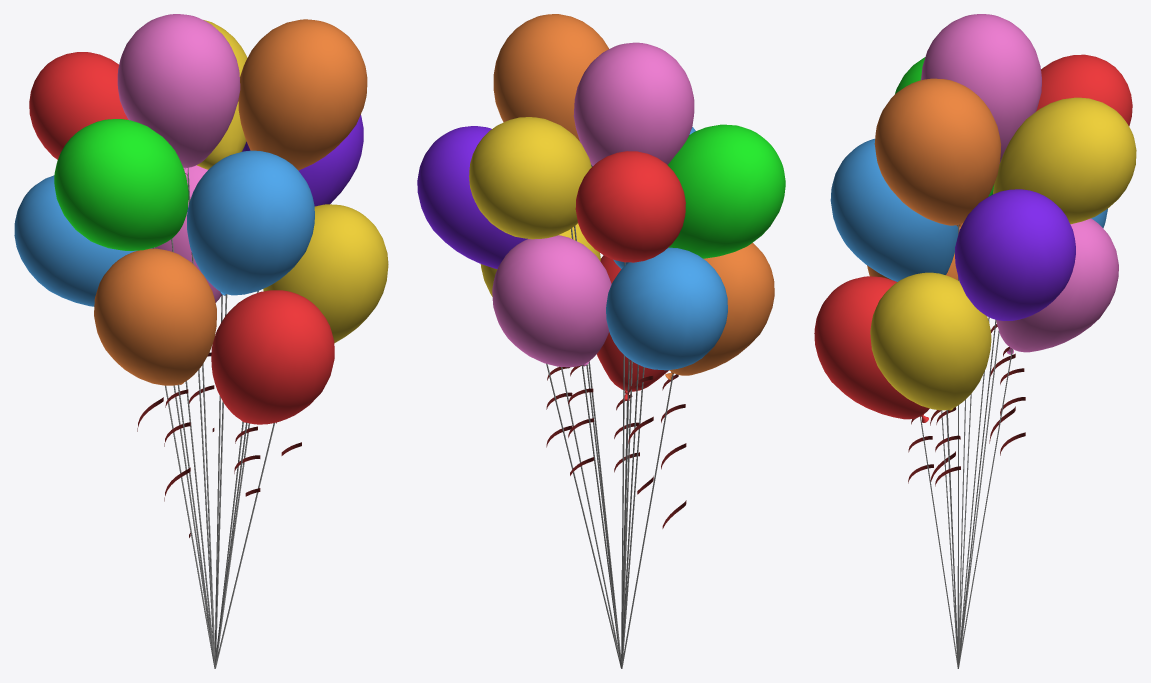
The model's file is ball-colorful-balloons.glb.
3 renders of one model, left to right at view 1: azimuth 30°, elevation 25°; view 2: azimuth 150°, elevation 25°; view 3: azimuth 270°, elevation 25°, orthographic.
Parts seen in each view (by area): view 1: Sphere.001, Sphere, Sphere.003, Sphere.002, Sphere.004, Sphere.005, Sphere.006, Sphere.008, Sphere.011, Sphere.007, Sphere.010, Sphere.009 (+6 smaller); view 2: Sphere.009, Sphere.003, Sphere.008, Sphere.002, Sphere.010, Sphere.011, Sphere.001, Sphere.007, Sphere.004, Sphere.005, Cube.005, Cube.009 (+8 smaller); view 3: Sphere.001, Sphere.006, Sphere.007, Sphere.010, Sphere, Sphere.002, Sphere.005, Sphere.009, Sphere.011, Cube.005, Cube.009, Cube.010 (+1 smaller).
Boxes of the visible parts, x1,y1,x2,y2 form: Sphere.001: (238, 19, 367, 170); Sphere: (187, 150, 314, 295); Sphere.003: (54, 119, 188, 250); Sphere.002: (117, 14, 240, 174); Sphere.004: (94, 248, 216, 385); Sphere.005: (211, 290, 334, 424); Sphere.006: (263, 204, 388, 343); Sphere.008: (14, 175, 152, 306); Sphere.011: (29, 52, 128, 159); Sphere.007: (242, 114, 363, 206); Sphere.010: (197, 20, 247, 169); Sphere.009: (152, 165, 221, 302); Sphere.009: (492, 235, 611, 367); Sphere.003: (667, 124, 785, 258); Sphere.008: (606, 247, 727, 370); Sphere.002: (573, 42, 694, 166); Sphere.010: (469, 117, 591, 239); Sphere.011: (575, 151, 685, 262); Sphere.001: (493, 14, 608, 141); Sphere.007: (417, 126, 527, 268); Sphere.004: (665, 243, 774, 379); Sphere.005: (596, 255, 668, 400); Cube.005: (546, 363, 621, 668); Cube.009: (581, 365, 621, 668); Sphere.001: (874, 78, 1000, 227); Sphere.006: (870, 272, 991, 410); Sphere.007: (955, 189, 1075, 320); Sphere.010: (993, 97, 1136, 224); Sphere: (830, 138, 959, 281); Sphere.002: (921, 14, 1041, 163); Sphere.005: (814, 276, 929, 422); Sphere.009: (996, 218, 1118, 354); Sphere.011: (1036, 54, 1132, 126); Cube.005: (958, 319, 996, 668); Cube.009: (959, 349, 1012, 666); Cube.010: (961, 330, 999, 648).
Bounding box in the file's own units: 929 × 1763 × 807.
